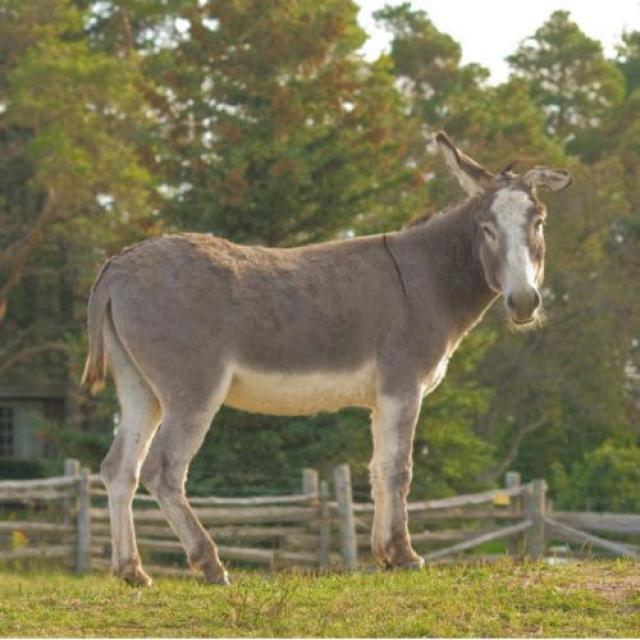Donkey: (82, 133, 574, 584)
